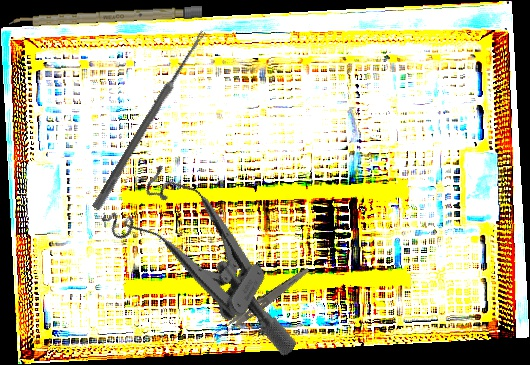Dressing Forceps: (208, 262, 312, 345)
Scalpel Handle: (8, 5, 203, 29)
Speculum: (89, 153, 340, 359)
Surgical Spoon: (91, 28, 208, 212)
